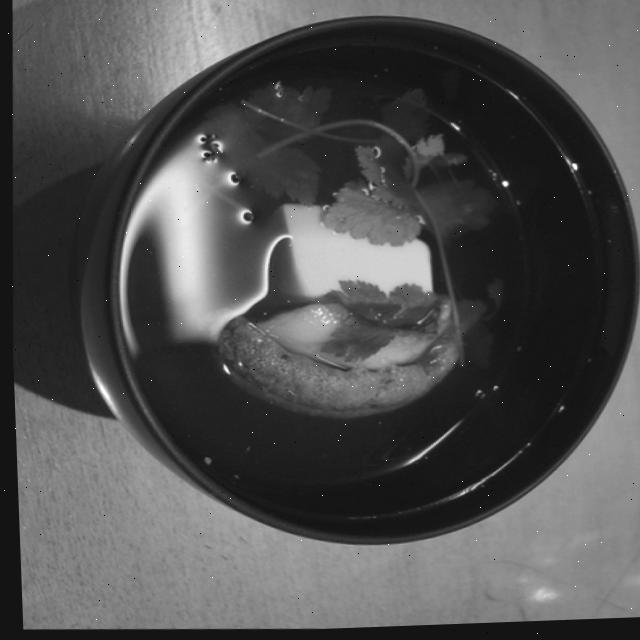汤锅炖物: (64, 31, 624, 545)
